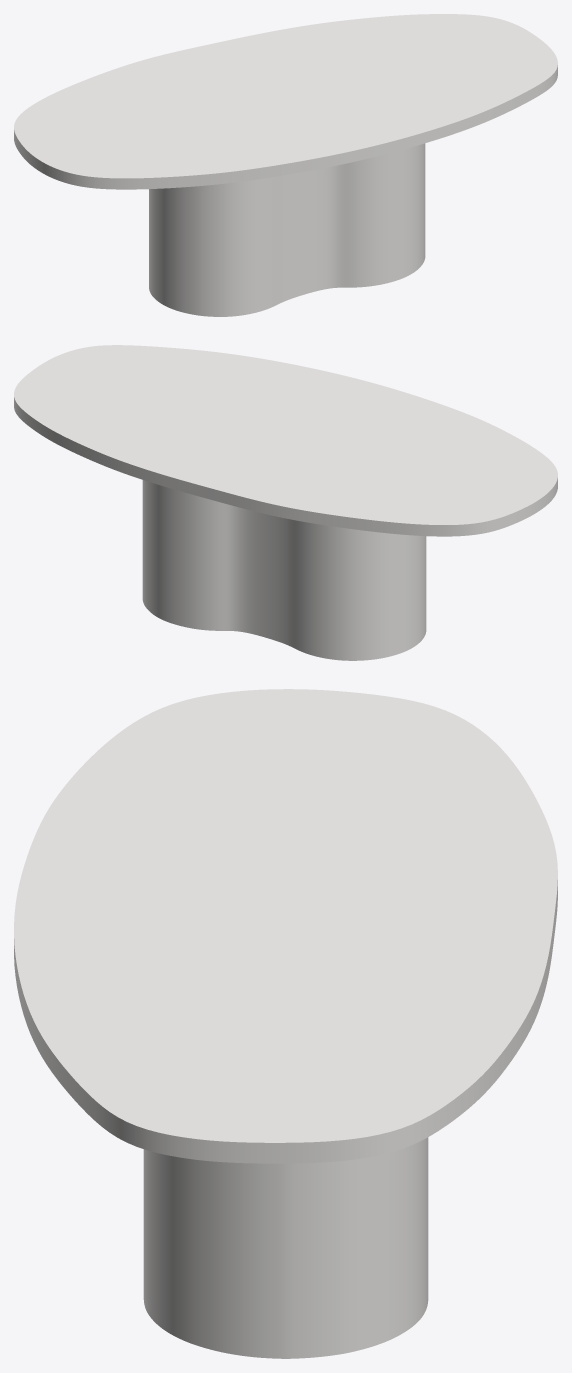
Rendered from purewhite_danish_standard_riverwave.glb.
The picture shows the model from 3 angles, top to bottom: view 1: azimuth 30°, elevation 25°; view 2: azimuth 150°, elevation 25°; view 3: azimuth 270°, elevation 25°; orthographic projection. The views are drawn at different scales.
Parts seen in each view (by area): view 1: standard_danish, riverwave; view 2: standard_danish, riverwave; view 3: standard_danish, riverwave.
Boxes of the visible parts, bbox=[...] form: standard_danish: bbox=[14, 14, 557, 189]; riverwave: bbox=[149, 143, 425, 316]; standard_danish: bbox=[14, 345, 557, 536]; riverwave: bbox=[142, 480, 426, 660]; standard_danish: bbox=[14, 689, 557, 1163]; riverwave: bbox=[143, 1137, 428, 1358].
Bounding box in the file's own units: 7.5 × 2.5 × 3.8.
Materials: 1 (1 with a texture image).
